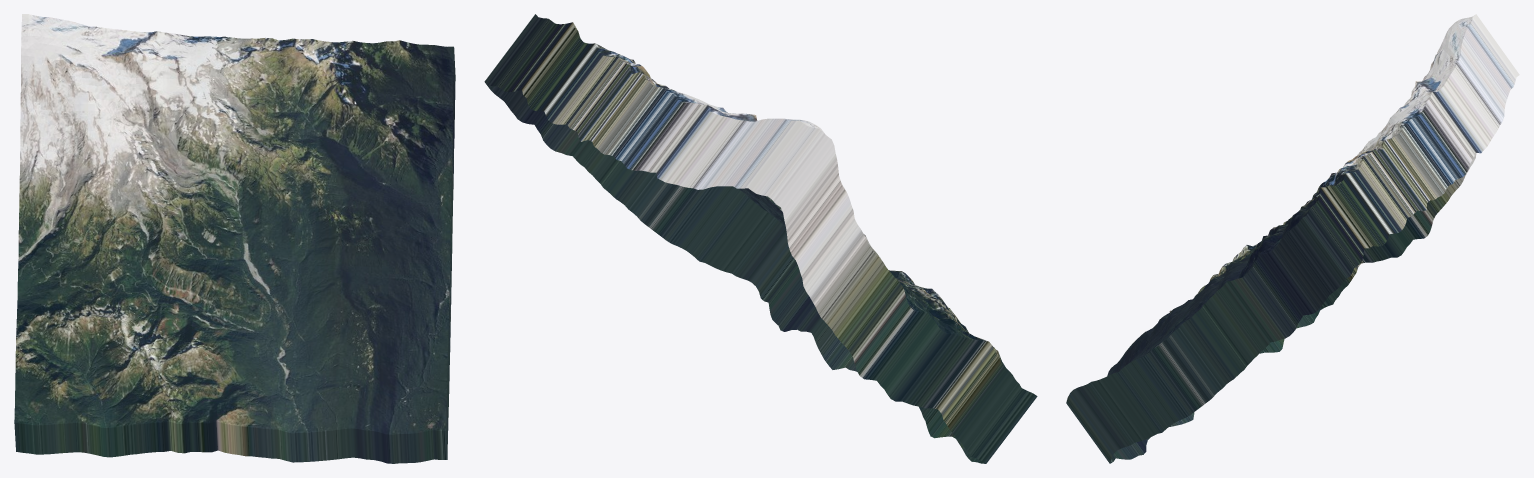
3 renders of one model, left to right at view 1: azimuth 30°, elevation 25°; view 2: azimuth 150°, elevation 25°; view 3: azimuth 270°, elevation 25°, orthographic. The views are drawn at different scales.
Size of the model in its own units: 20952 by 15473 by 18170.
1 material, 1 textured.
